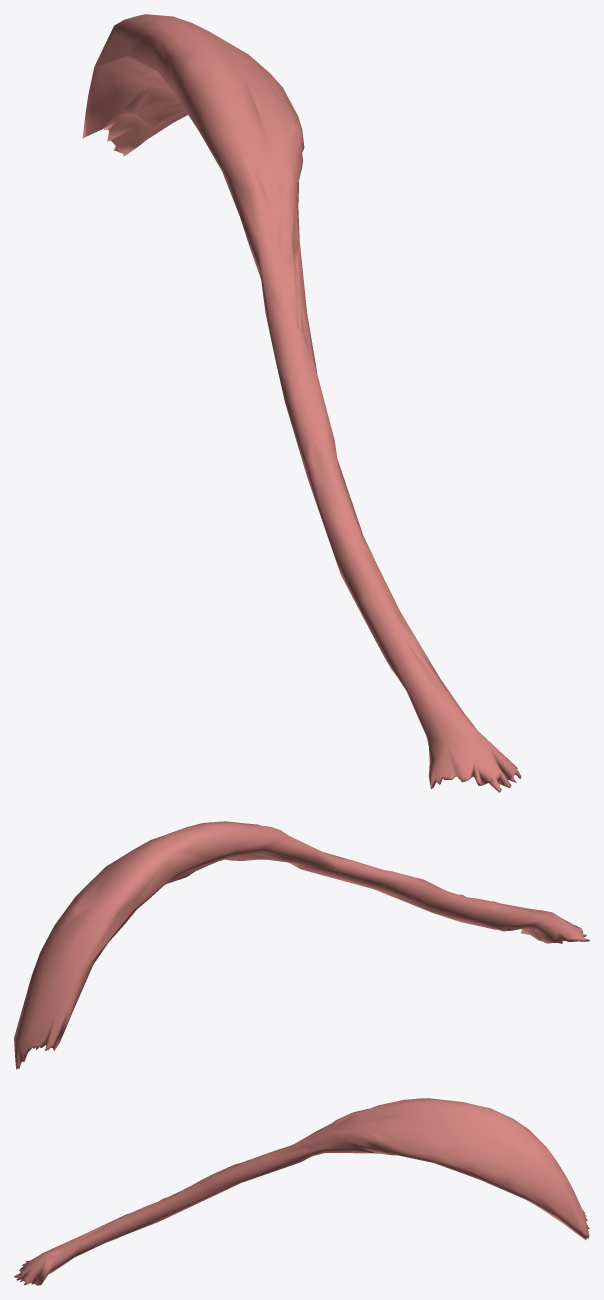
The picture shows the model from 3 angles, top to bottom: view 1: azimuth 30°, elevation 25°; view 2: azimuth 150°, elevation 25°; view 3: azimuth 270°, elevation 25°; orthographic projection. The views are drawn at different scales.
Parts seen in each view (by area): view 1: ZA_aaa3201419316892; view 2: ZA_aaa3201419316892; view 3: ZA_aaa3201419316892.
Part boxes in pixels (box(x1,y1,x2,y2)): ZA_aaa3201419316892: box(82, 14, 521, 792); ZA_aaa3201419316892: box(14, 821, 589, 1069); ZA_aaa3201419316892: box(14, 1098, 589, 1285).
Bounding box in the file's own units: 0.0339 × 0.0479 × 0.1218.
